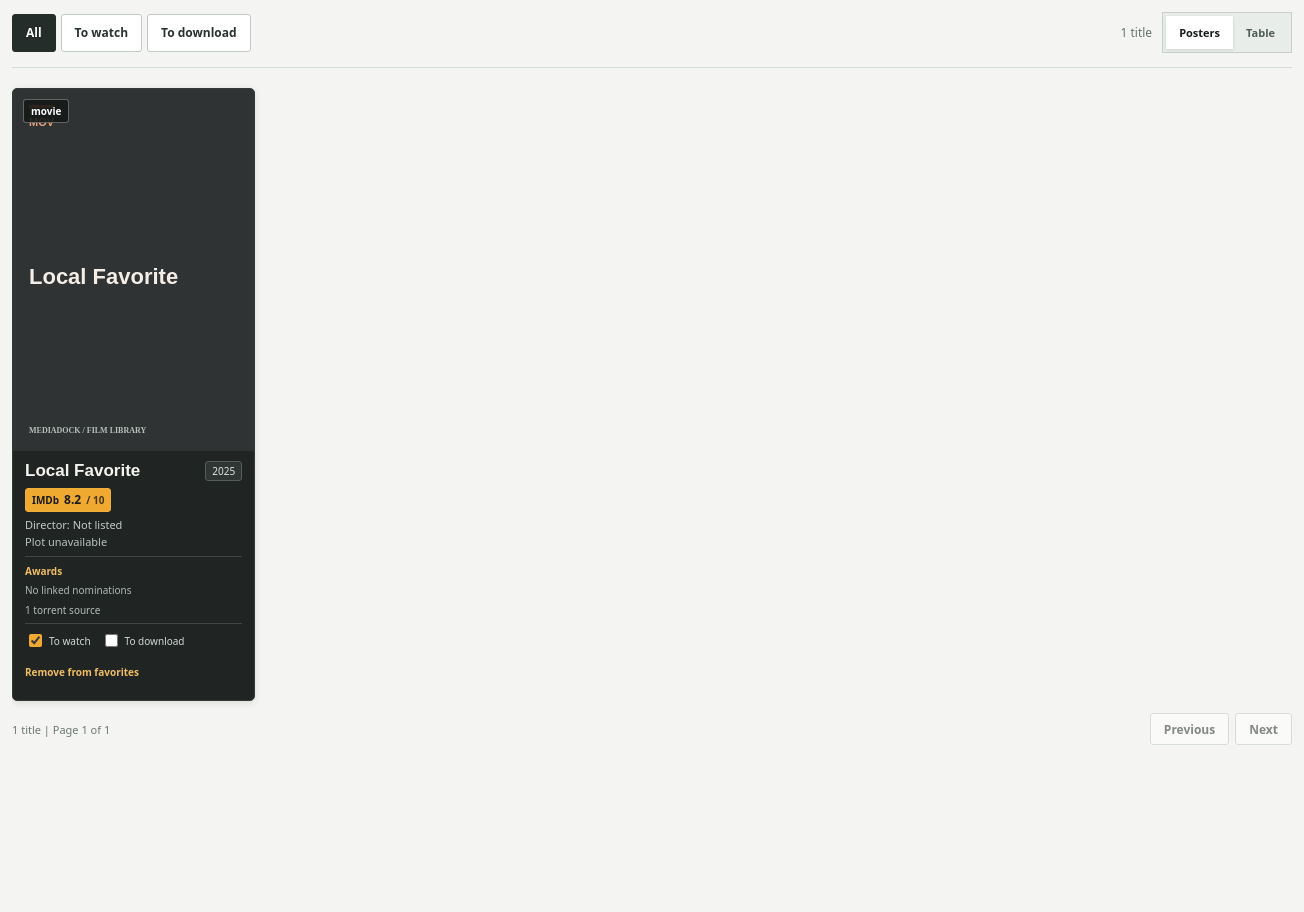
Test: removes a favorite locally without reloading the current page
The width and height of the screenshot is (1304, 912).
Expected: the button with aria-label "View Local Favorite details" is shown, [13,89,254,451]
Click the button "Remove from favorites" at (82, 672), box [25,655,139,689]
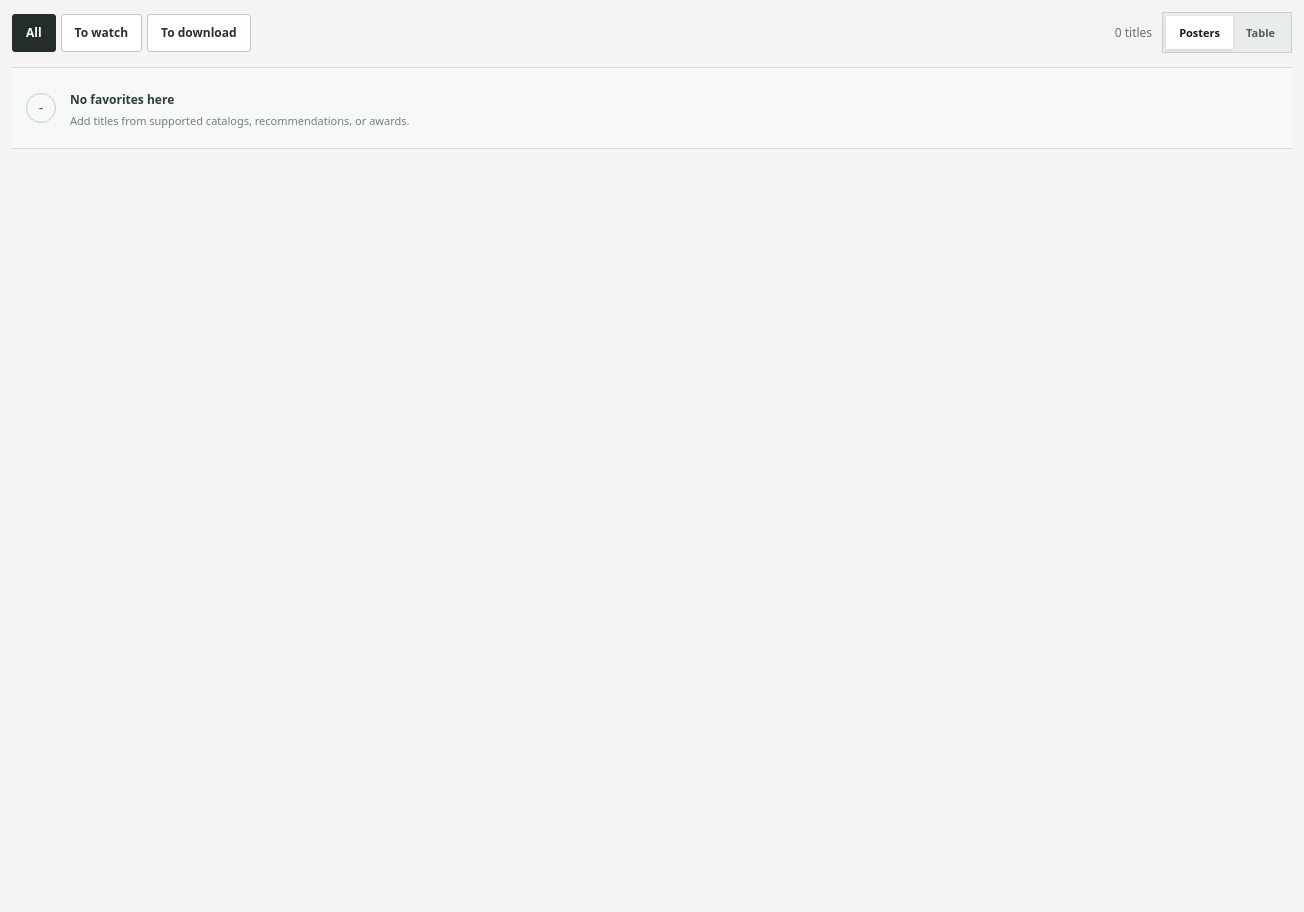
Expected: the text "No favorites here" is shown, [70,91,174,108]
